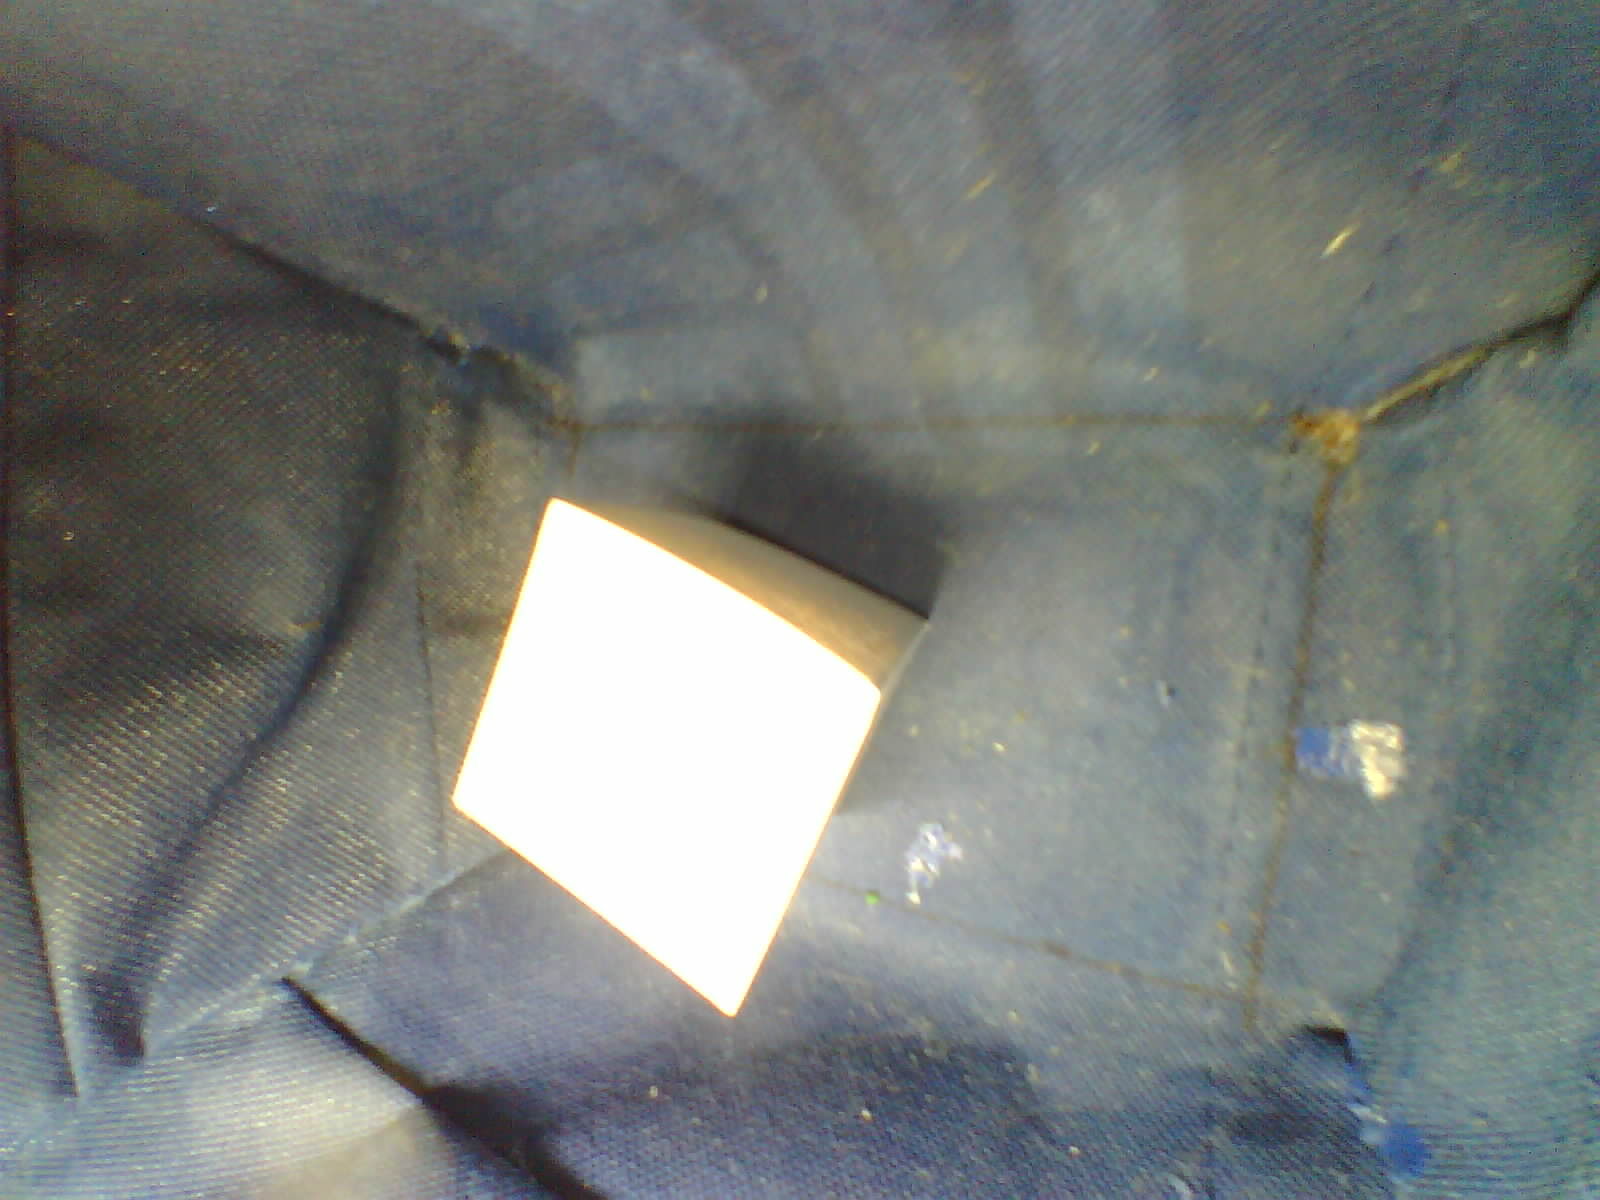cube-hard: (433, 480, 937, 1058)
